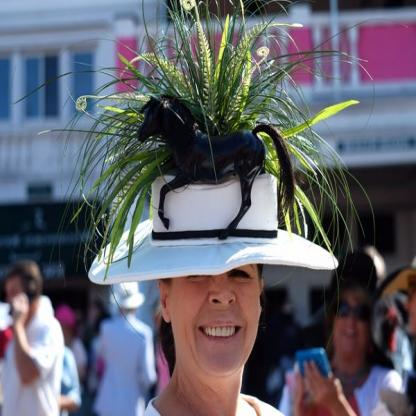hat: (84, 161, 348, 289)
